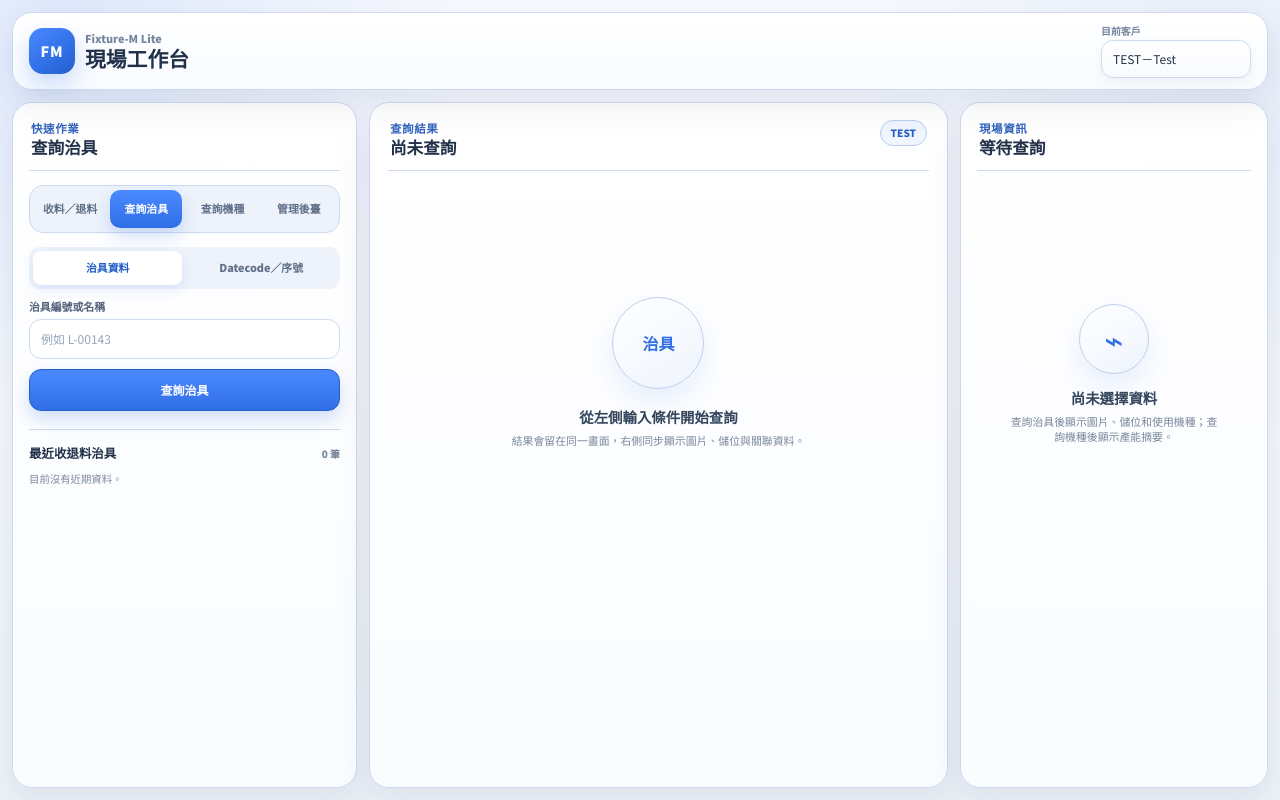
Test: WorkbenchUiSurface › keeps a not-found query visible in the result and detail panels
The image size is (1280, 800).
Type "UNKNOWN" into the field with placeholder "例如 L-00143" at (184, 339), box [29,319,340,359]
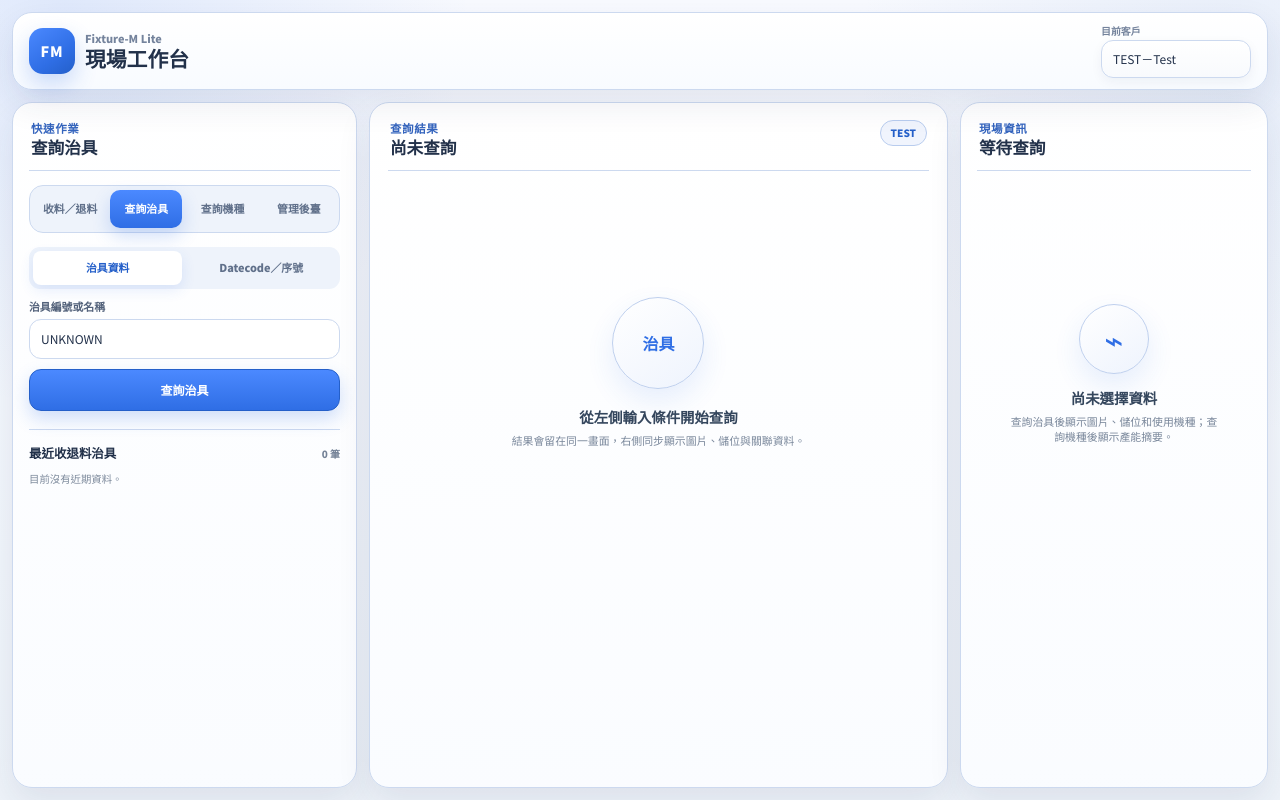
Submit the form with class "workbench-query-form", box [29,247,340,411]
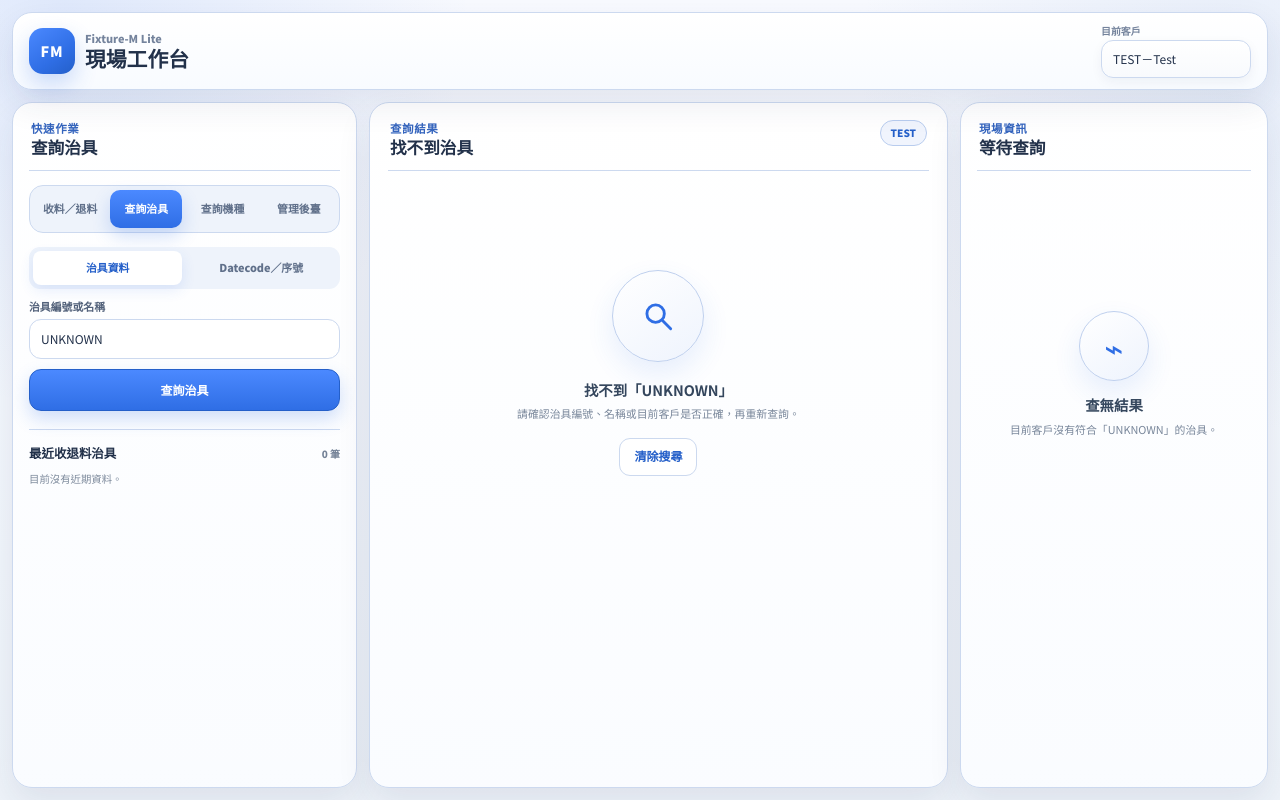
Result: the element that starts with "找不到「UNKNOWN」" is shown at [584,379,733,400]
Result: the button with class "workbench-clear-search" reads "清除搜尋" at [620,438,698,476]
Result: the element showing "⌁ 查無結果 目前客戶沒有符合「UNKNOWN」的治具。" is shown at [1010,312,1218,437]
